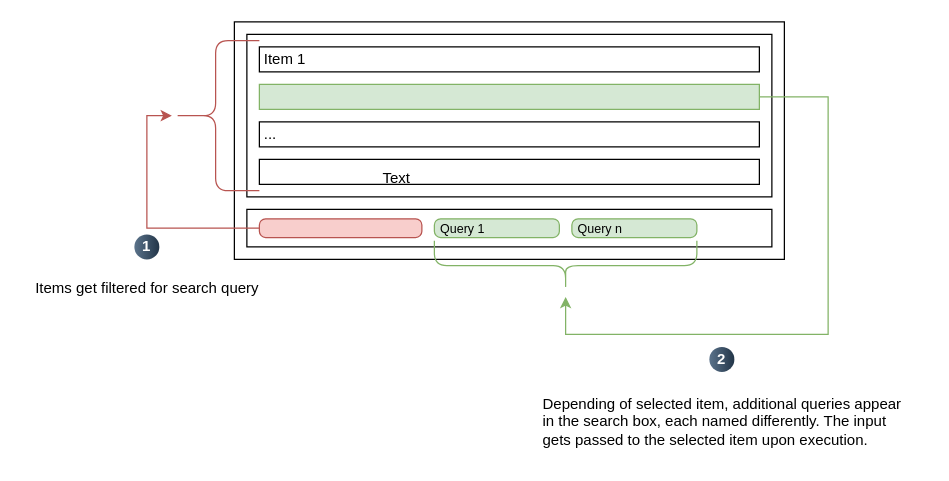
Image size: 949x481. Some labels were removed from this diagram. The box of each missing label's shape, as (x1, y1, x2, y2) in pixels:
Item 2 (selected): (258, 83, 759, 109)
Item n: (258, 158, 759, 184)
Search query: (258, 218, 422, 238)
